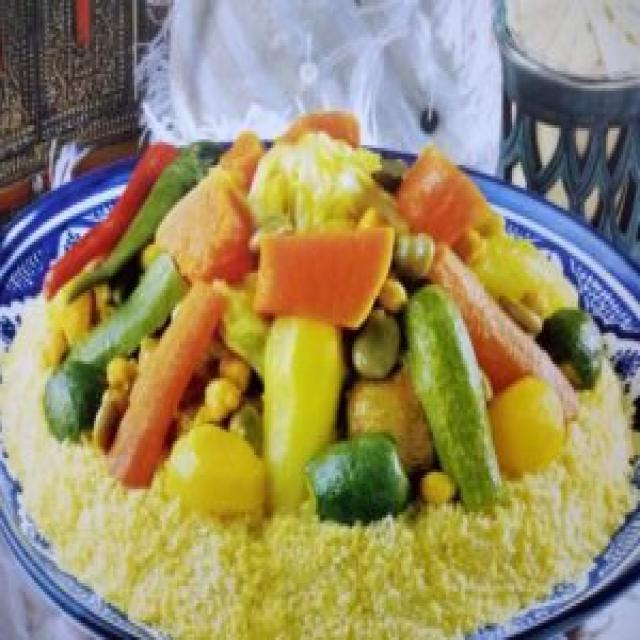Couscous: (0, 114, 638, 640)
